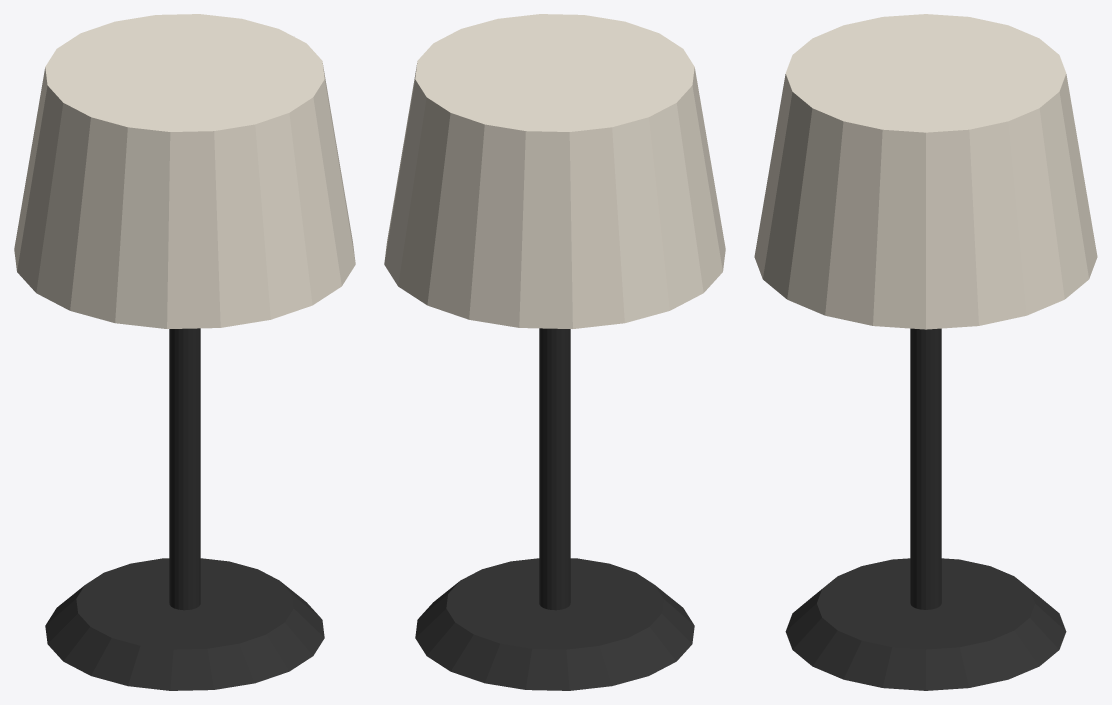
Rendered from tableLamp.glb.
3 renders of one model, left to right at view 1: azimuth 30°, elevation 25°; view 2: azimuth 150°, elevation 25°; view 3: azimuth 270°, elevation 25°, orthographic.
Parts seen in each view (by area): view 1: lampShade.001, base.002, stem; view 2: lampShade.001, base.002, stem; view 3: lampShade.001, base.002, stem.
Boxes of the visible parts, box(x1,y1,x2,y2) form: lampShade.001: box(14, 14, 355, 328); base.002: box(45, 558, 324, 690); stem: box(169, 328, 200, 610); lampShade.001: box(384, 14, 725, 328); base.002: box(415, 558, 694, 690); stem: box(539, 328, 570, 610); lampShade.001: box(754, 14, 1097, 329); base.002: box(785, 558, 1066, 690); stem: box(910, 328, 941, 609).
Bounding box in the file's own units: 0.22 × 0.395 × 0.22.
